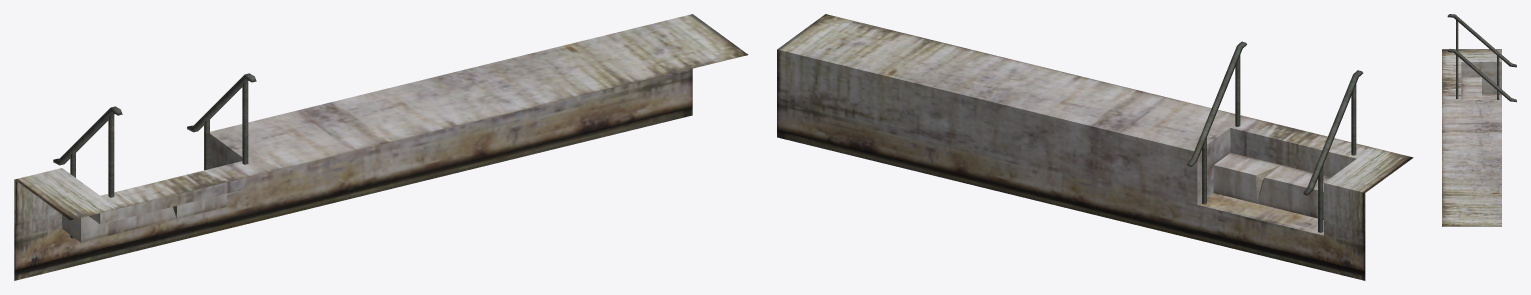
File: Trottoir_18.fbx
3 renders of one model, left to right at view 1: azimuth 30°, elevation 25°; view 2: azimuth 150°, elevation 25°; view 3: azimuth 270°, elevation 25°, orthographic. The views are drawn at different scales.
Visible parts, largest first — view 1: Trottoir_18; view 2: Trottoir_18; view 3: Trottoir_18.
Boxes of the visible parts, <box> form: Trottoir_18: <box>14,14,748,280</box>; Trottoir_18: <box>777,14,1413,280</box>; Trottoir_18: <box>1442,14,1516,226</box>.
Size of the model in its own units: 700 by 191 by 125.
